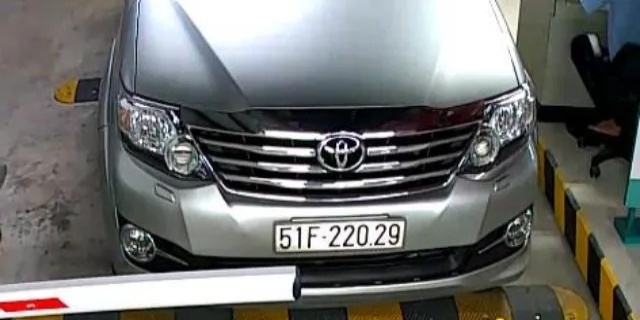bien_so: (276, 222, 403, 249)
